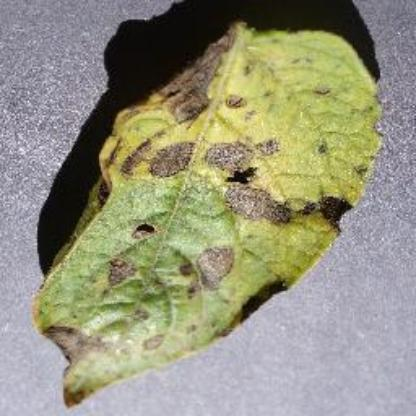Early-Blight: (12, 13, 390, 392)
